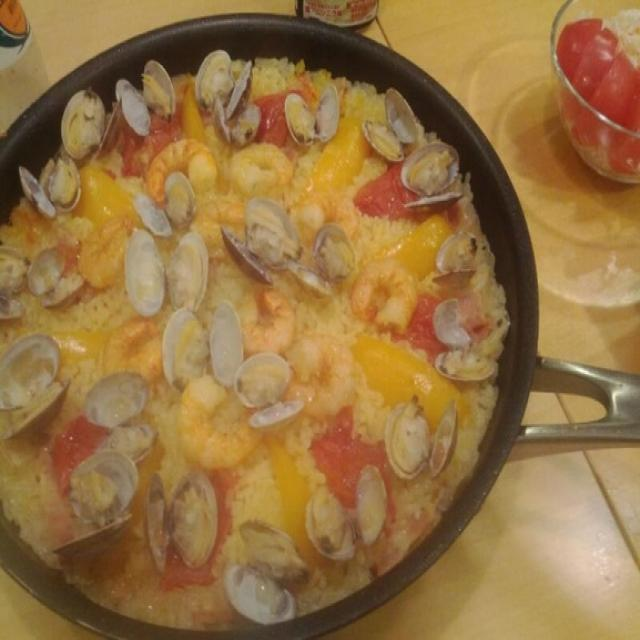汤锅炖物: (66, 34, 578, 575)
